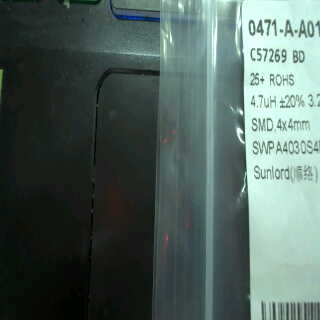4.7uH: (249, 91, 279, 111)
